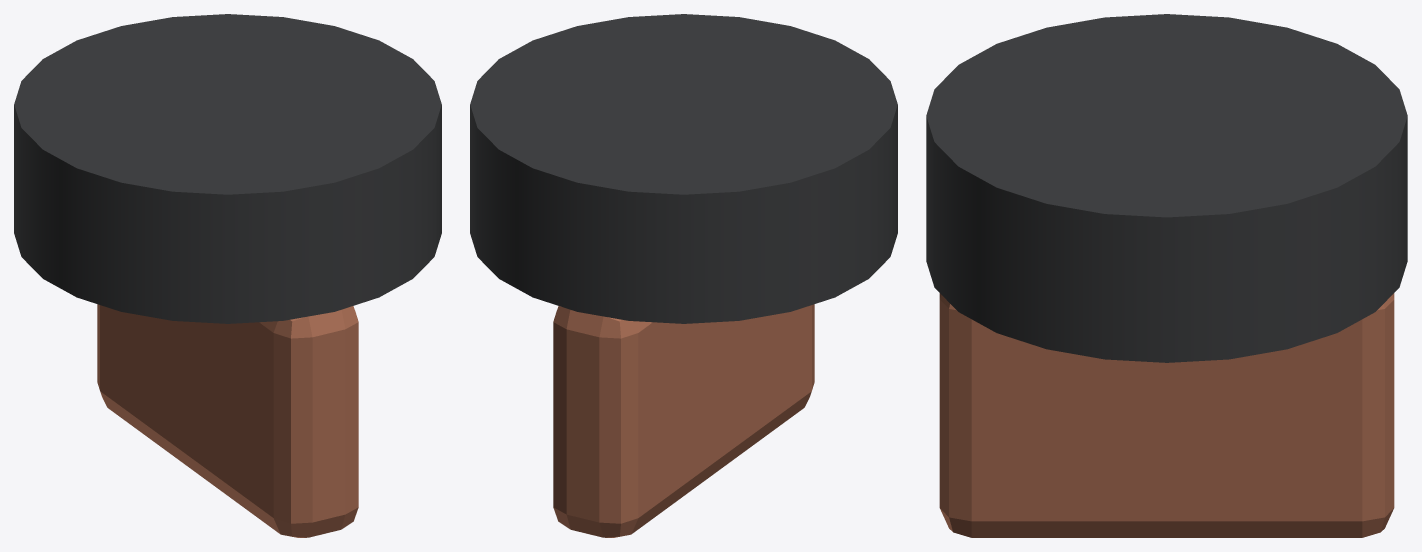
The model's file is wall_key_cabinet_lock_knob.glb.
3 renders of one model, left to right at view 1: azimuth 30°, elevation 25°; view 2: azimuth 150°, elevation 25°; view 3: azimuth 270°, elevation 25°, orthographic. The views are drawn at different scales.
Visible parts, largest first — view 1: export_tmp; view 2: export_tmp; view 3: export_tmp.
Boxes of the visible parts, x1,y1,x2,y2 form: export_tmp: (14,14,441,537); export_tmp: (470,14,897,537); export_tmp: (926,14,1407,537).
Bounding box in the file's own units: 0.036 × 0.034 × 0.036.
